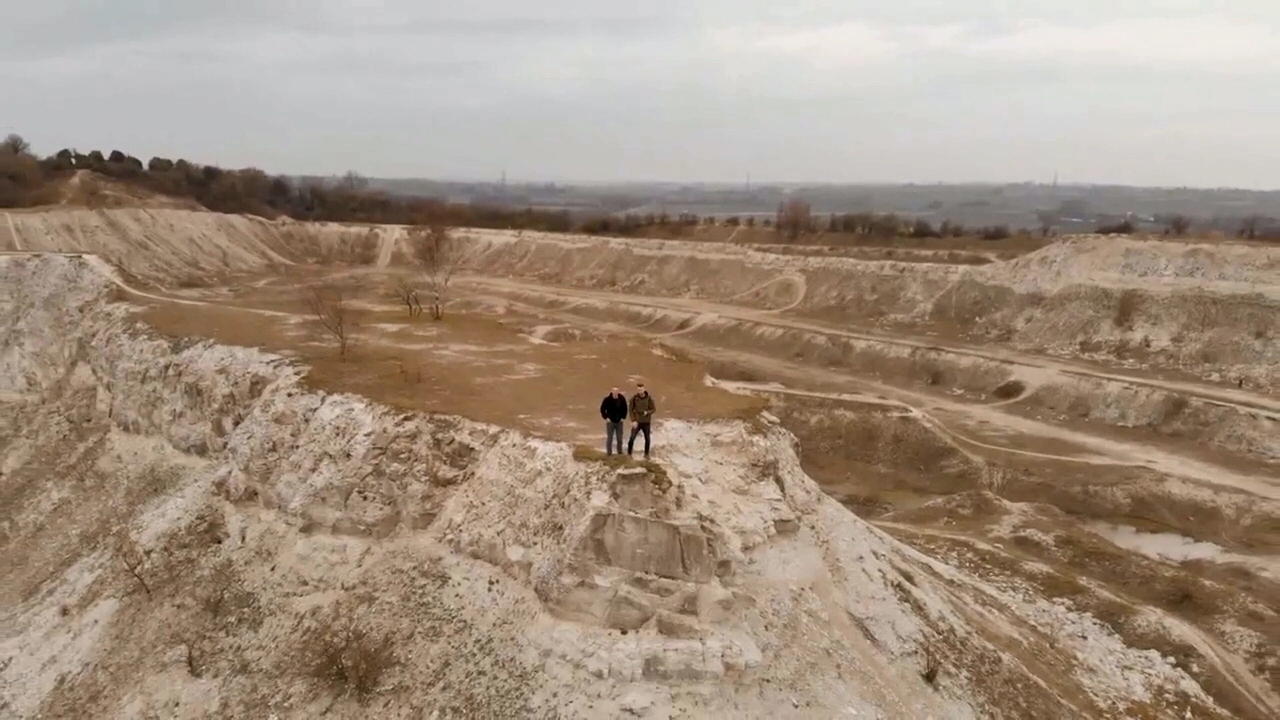insan: (624, 378, 658, 461), (596, 378, 630, 460)
